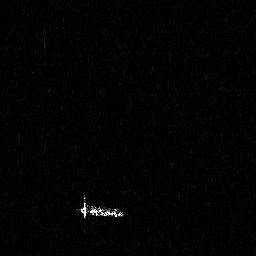ship: (75, 193, 128, 227)
